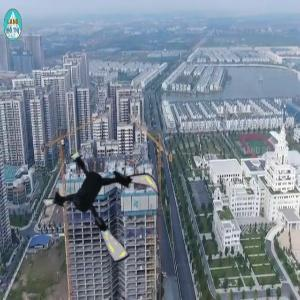drone: (47, 148, 163, 264)
